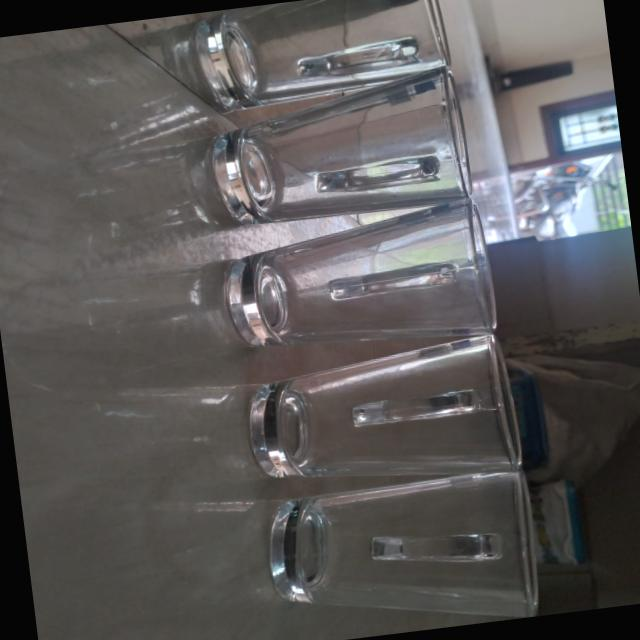glass-VX4N: (262, 467, 541, 640), (200, 66, 478, 228), (210, 201, 494, 359), (250, 332, 520, 494), (197, 0, 447, 102)
